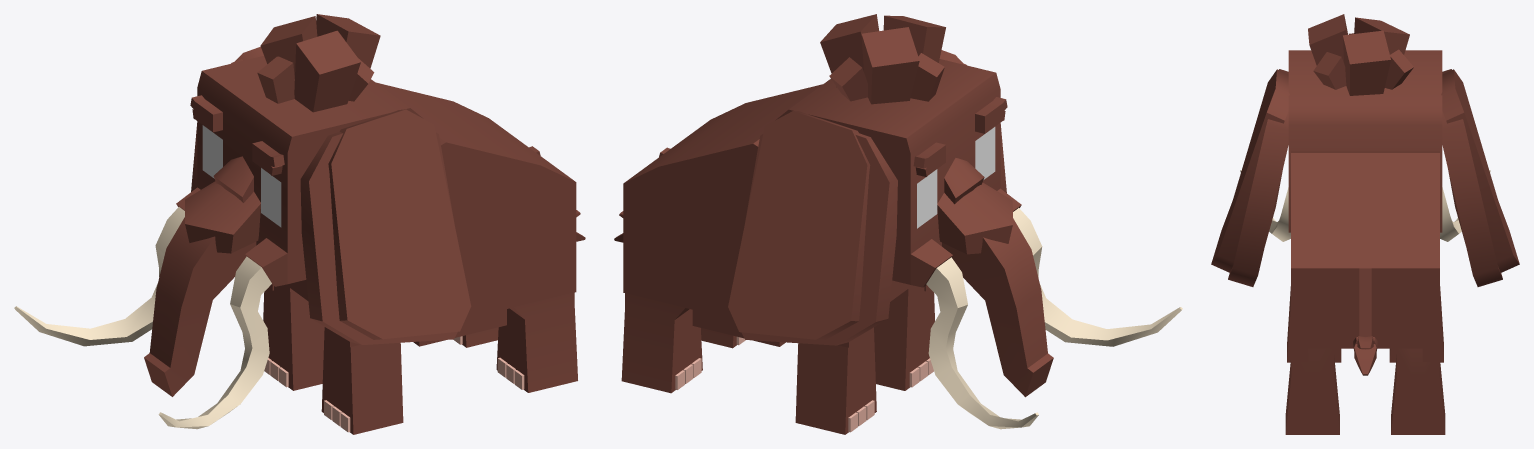
The model's file is mammoth_2.obj.
3 views of the same model, side by side, from view 1: azimuth 30°, elevation 25°; view 2: azimuth 150°, elevation 25°; view 3: azimuth 270°, elevation 25° (orthographic). The views are drawn at different scales.
Parts seen in each view (by area): view 1: Head, Torso, LeftArm, LeftLeg, RightArm; view 2: Head, Torso, RightArm, RightLeg, LeftArm; view 3: Head, Torso, LeftLeg, RightLeg, LeftArm, RightArm.
Part boxes in pixels (x1,y1,x2,y2): Head: (14, 14, 471, 429); Torso: (268, 82, 585, 347); LeftArm: (321, 327, 403, 434); LeftLeg: (496, 292, 577, 392); RightArm: (263, 284, 324, 390); Head: (728, 14, 1182, 429); Torso: (614, 84, 929, 347); RightArm: (795, 327, 876, 434); RightLeg: (621, 293, 702, 393); LeftArm: (874, 285, 934, 390); Head: (1211, 14, 1519, 286); Torso: (1291, 151, 1439, 375); LeftLeg: (1285, 348, 1339, 434); RightLeg: (1391, 348, 1445, 434); LeftArm: (1287, 286, 1341, 362); RightArm: (1389, 286, 1443, 362).
Size of the model in its own units: 17 by 12.24 by 10.72.
